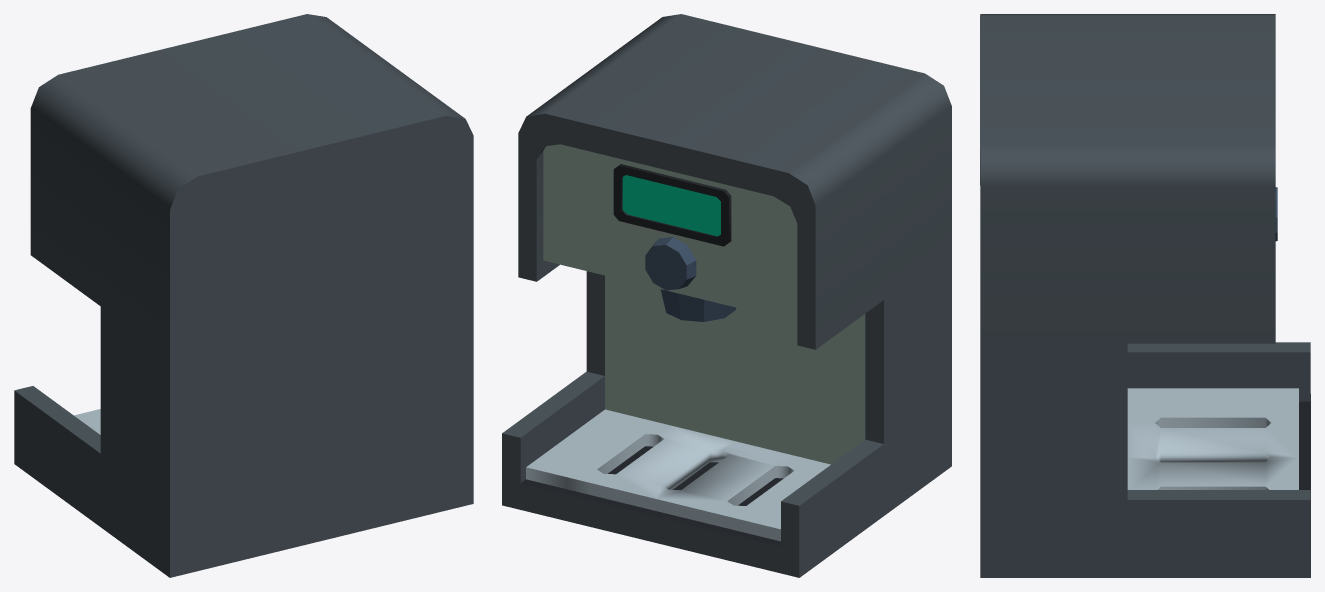
The model's file is DrinkDispenser_geo.fbx.
3 views of the same model, side by side, from view 1: azimuth 30°, elevation 25°; view 2: azimuth 150°, elevation 25°; view 3: azimuth 270°, elevation 25° (orthographic). The views are drawn at different scales.
Visible parts, largest first — view 1: DrinkDispenser_geo; view 2: DrinkDispenser_geo; view 3: DrinkDispenser_geo.
Part boxes in pixels (x1,y1,x2,y2): DrinkDispenser_geo: [14, 14, 473, 577]; DrinkDispenser_geo: [502, 14, 951, 577]; DrinkDispenser_geo: [980, 14, 1310, 577].
Size of the model in its own units: 1.02 by 0.9052 by 1.27.
